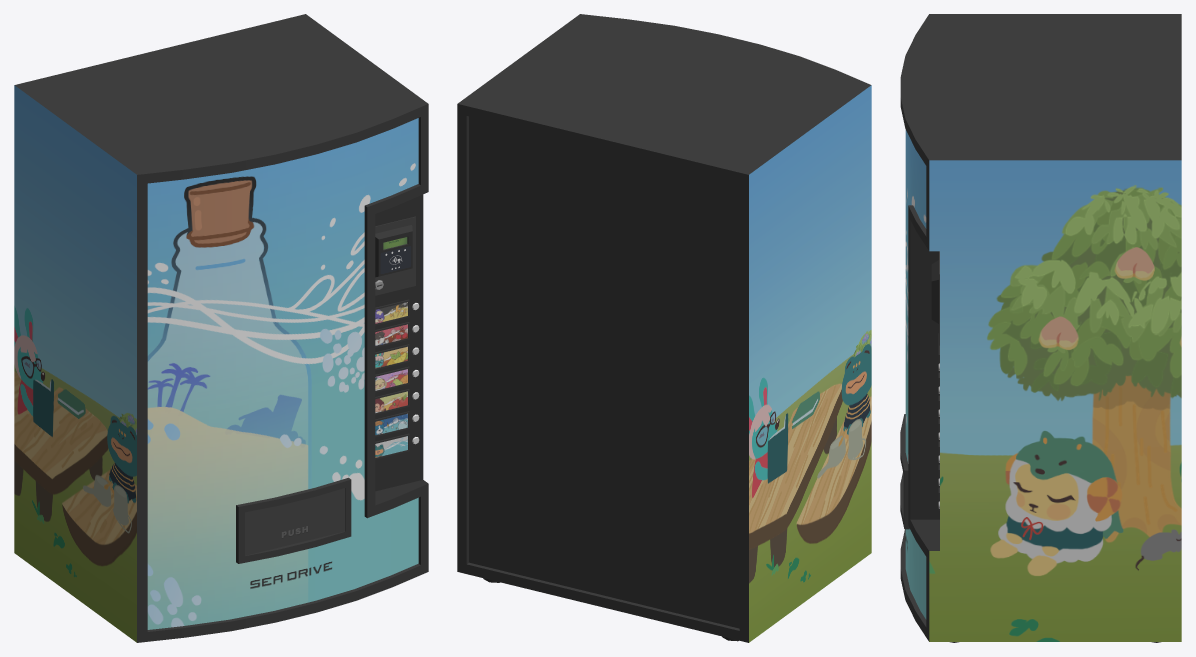
File: vending machine.fbx
3 renders of one model, left to right at view 1: azimuth 30°, elevation 25°; view 2: azimuth 150°, elevation 25°; view 3: azimuth 270°, elevation 25°, orthographic. The views are drawn at different scales.
Parts seen in each view (by area): view 1: machine, drinks, card reader; view 2: machine; view 3: machine, card reader.
Part boxes in pixels (x1,y1,x2,y2): machine: [14, 14, 428, 642]; drinks: [375, 299, 419, 459]; card reader: [375, 216, 415, 295]; machine: [457, 14, 871, 642]; machine: [900, 14, 1181, 641]; card reader: [931, 251, 939, 345].
Size of the model in its own units: 281 by 439 by 229.
